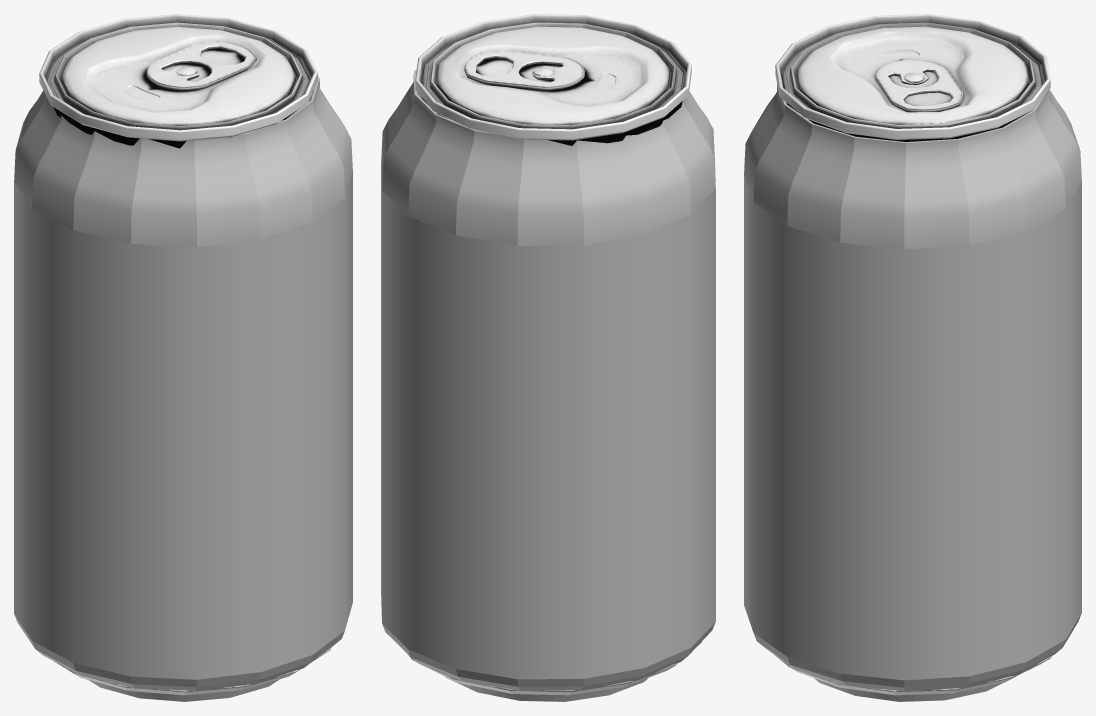
Rendered from oCola.fbx.
3 views of the same model, side by side, from view 1: azimuth 30°, elevation 25°; view 2: azimuth 150°, elevation 25°; view 3: azimuth 270°, elevation 25° (orthographic).
Parts seen in each view (by area): view 1: Coca_body, Coca_top_01, Coca_top_02, Coca_bottom; view 2: Coca_body, Coca_top_01, Coca_top_02, Coca_bottom; view 3: Coca_body, Coca_top_01, Coca_top_02, Coca_bottom.
Boxes of the visible parts, bbox=[...] form: Coca_body: bbox=[14, 76, 352, 691]; Coca_top_01: bbox=[39, 14, 317, 148]; Coca_top_02: bbox=[146, 40, 256, 90]; Coca_bottom: bbox=[54, 647, 331, 701]; Coca_body: bbox=[381, 69, 715, 690]; Coca_top_01: bbox=[415, 14, 691, 145]; Coca_top_02: bbox=[464, 50, 584, 90]; Coca_bottom: bbox=[407, 641, 702, 701]; Coca_body: bbox=[744, 84, 1081, 691]; Coca_top_01: bbox=[775, 14, 1050, 141]; Coca_top_02: bbox=[875, 59, 963, 112]; Coca_bottom: bbox=[775, 655, 1051, 701].
Size of the model in its own units: 0.4736 by 0.8968 by 0.4736.
